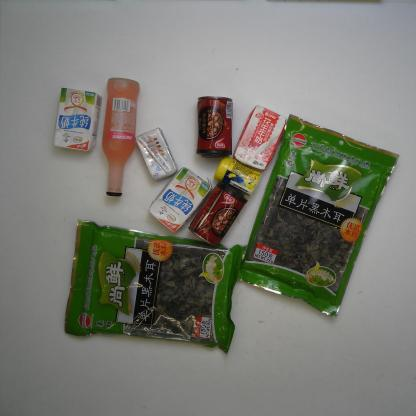Alcohol: (100, 74, 140, 198)
Canned Food: (186, 178, 250, 249), (194, 94, 236, 160)
Dried Food: (230, 112, 402, 325), (62, 218, 251, 356)
Gum: (213, 155, 263, 198)
Milk: (146, 164, 215, 235), (231, 103, 290, 176), (51, 85, 103, 154), (134, 127, 179, 182)
